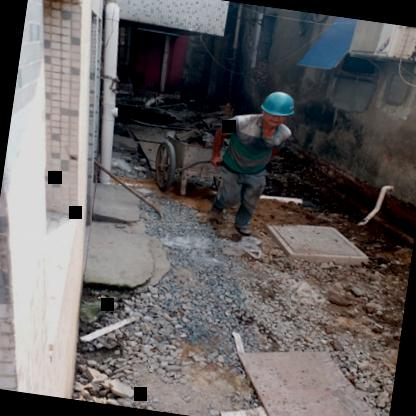helmet: (256, 86, 298, 127)
